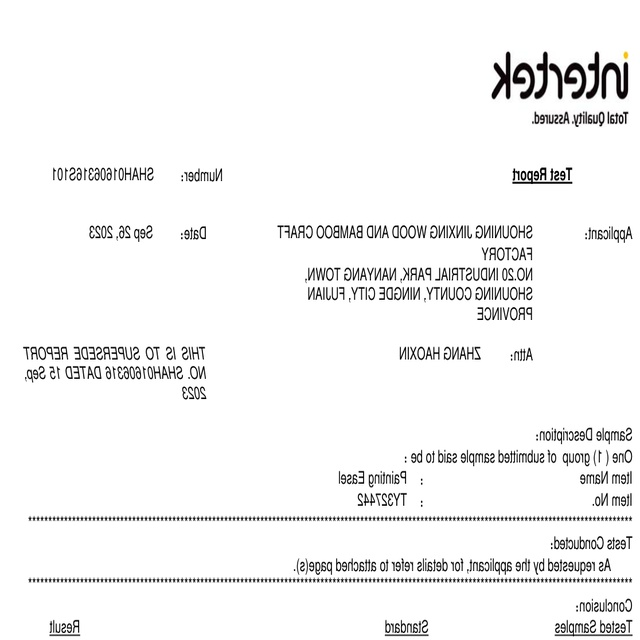intertek: (489, 47, 632, 103)
